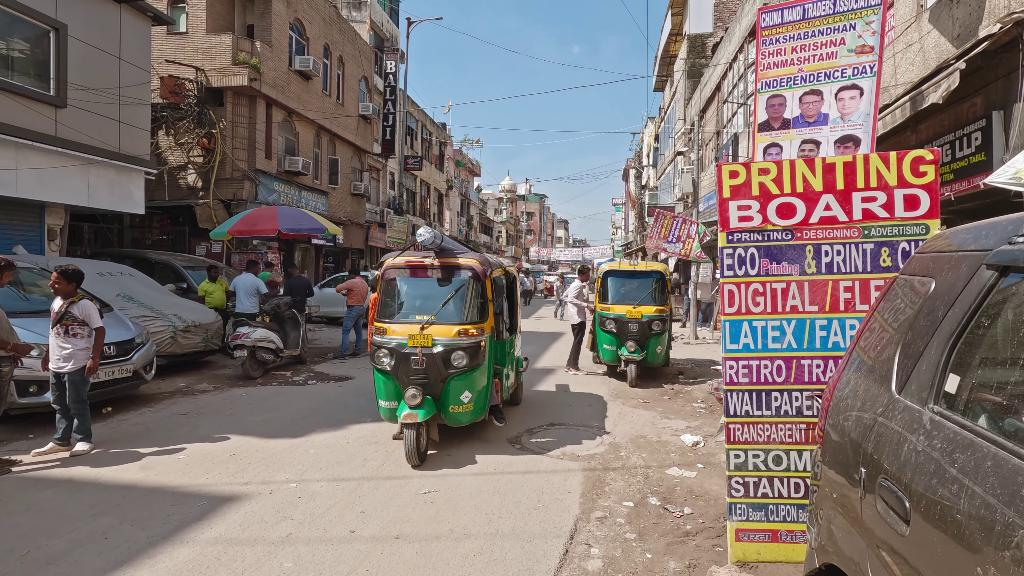garbage: (667, 463, 698, 481), (680, 429, 705, 447)
